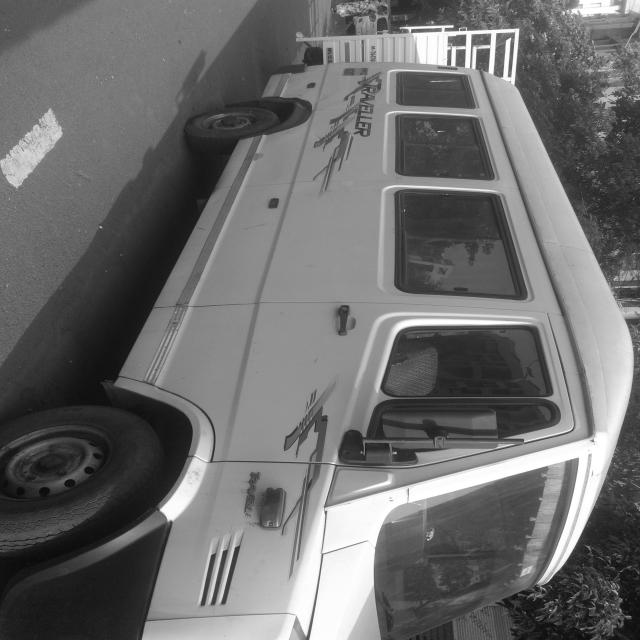Truck: (2, 26, 632, 640)
